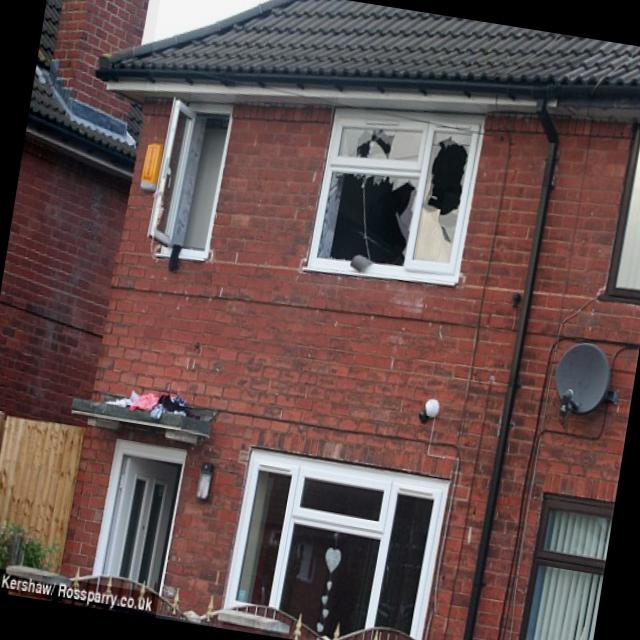House: (13, 0, 640, 640), (0, 0, 164, 603)
